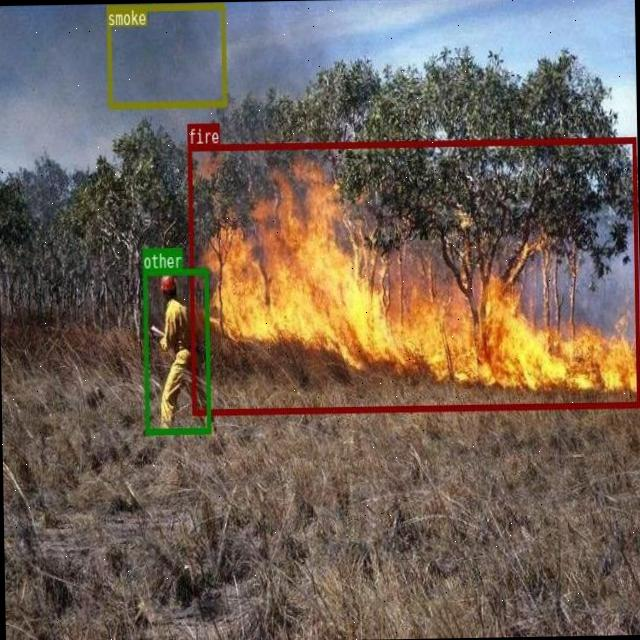fire: (186, 136, 640, 414)
smoke: (106, 2, 224, 106)
